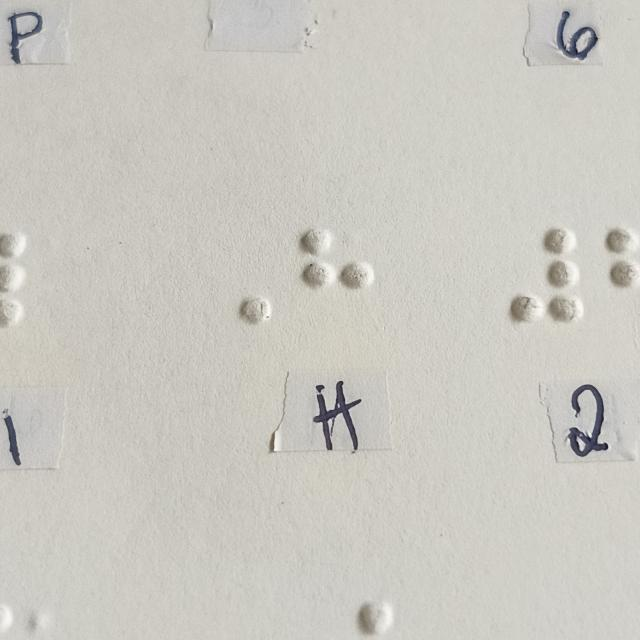capital_sign: (203, 228, 274, 328)
letter_H: (301, 228, 372, 328)
